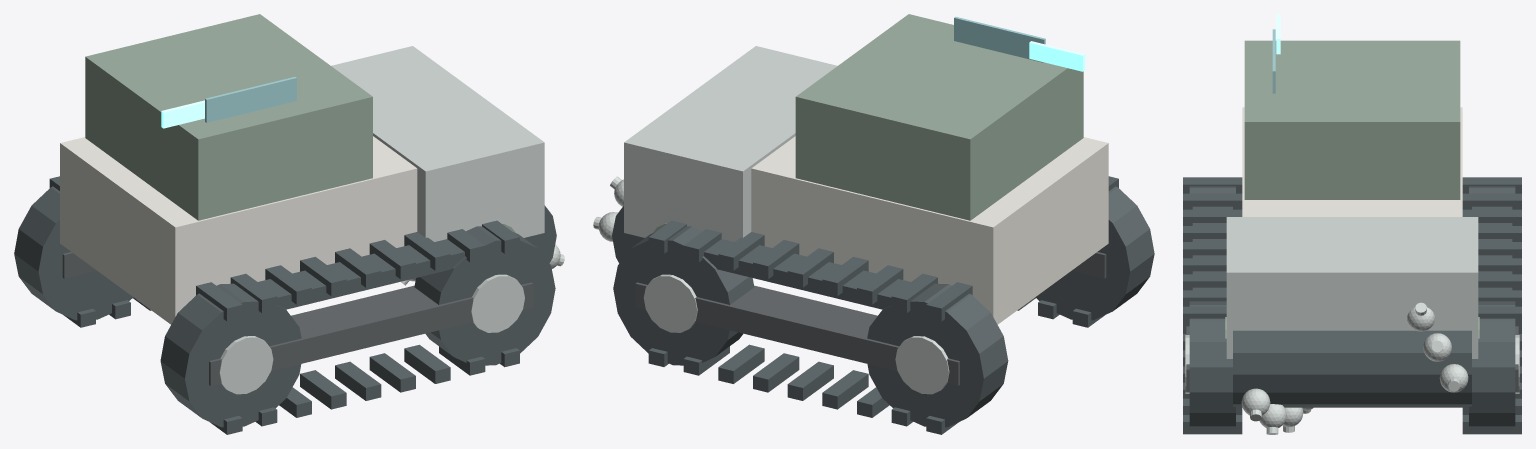
File: s7-f-e02-tiller.glb
3 renders of one model, left to right at view 1: azimuth 30°, elevation 25°; view 2: azimuth 150°, elevation 25°; view 3: azimuth 270°, elevation 25°, orthographic. The views are drawn at different scales.
Visible parts, largest first — view 1: housing_050, tillerbody_001, rotorguard_052, trackroller_026, trackbelt_030, trackroller_028, trackroller_002, tracktop_031, trackhub_029, trackhub_027, sensorbar_051, treadlug_042 (+17 smaller); view 2: housing_050, tillerbody_001, rotorguard_052, trackroller_002, trackbelt_006, trackroller_004, trackroller_026, tracktop_007, trackhub_005, trackhub_003, sensorbar_051, treadlug_018 (+17 smaller); view 3: housing_050, rotorguard_052, drum_053, trackroller_004, trackroller_028, tillerbody_001, treadlug_011, treadlug_035, tracktop_007, tracktop_031, treadlug_013, treadlug_037 (+23 smaller).
Part boxes in pixels (<box>): housing_050: <box>85,14,372,220</box>; tillerbody_001: <box>60,136,417,324</box>; rotorguard_052: <box>331,46,544,241</box>; trackroller_026: <box>160,283,301,427</box>; trackbelt_030: <box>209,282,533,385</box>; trackroller_028: <box>414,226,555,365</box>; trackroller_002: <box>14,186,133,320</box>; tracktop_031: <box>258,239,464,309</box>; trackhub_029: <box>471,274,524,332</box>; trackhub_027: <box>219,336,273,394</box>; sensorbar_051: <box>205,77,296,122</box>; treadlug_042: <box>369,353,415,392</box>; housing_050: <box>795,14,1083,220</box>; tillerbody_001: <box>751,136,1108,324</box>; rotorguard_052: <box>624,46,837,241</box>; trackroller_002: <box>867,283,1008,427</box>; trackbelt_006: <box>635,282,959,385</box>; trackroller_004: <box>613,226,754,365</box>; trackroller_026: <box>1035,186,1154,320</box>; tracktop_007: <box>704,239,910,309</box>; trackhub_005: <box>643,274,697,332</box>; trackhub_003: <box>895,336,949,394</box>; sensorbar_051: <box>954,16,1045,62</box>; treadlug_018: <box>753,353,799,392</box>; housing_050: <box>1244,40,1460,199</box>; rotorguard_052: <box>1226,217,1478,358</box>; drum_053: <box>1233,330,1471,407</box>; trackroller_004: <box>1469,301,1515,429</box>; trackroller_028: <box>1189,301,1235,429</box>; tillerbody_001: <box>1242,107,1462,216</box>; treadlug_011: <box>1462,193,1521,209</box>; treadlug_035: <box>1183,193,1242,209</box>; tracktop_007: <box>1472,206,1512,290</box>; tracktop_031: <box>1192,206,1232,290</box>; treadlug_013: <box>1462,209,1521,225</box>; treadlug_037: <box>1183,209,1242,225</box>.
Bounding box in the file's own units: 2.19 × 1.46 × 1.6.
